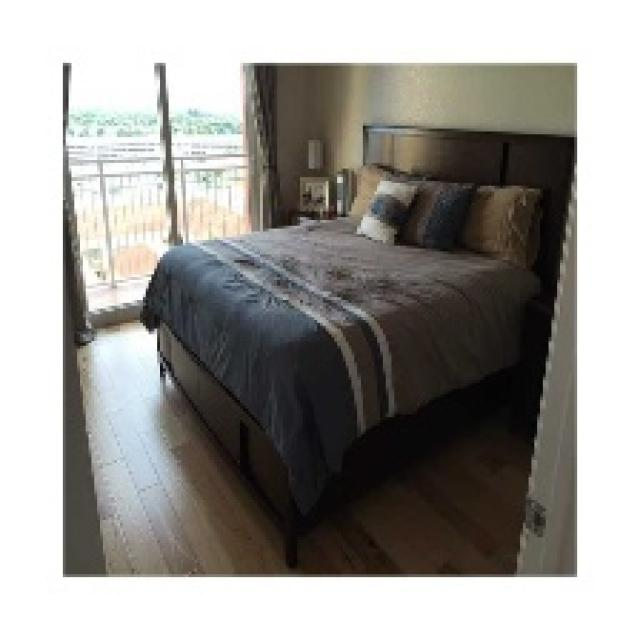Bed: (140, 123, 574, 566)
